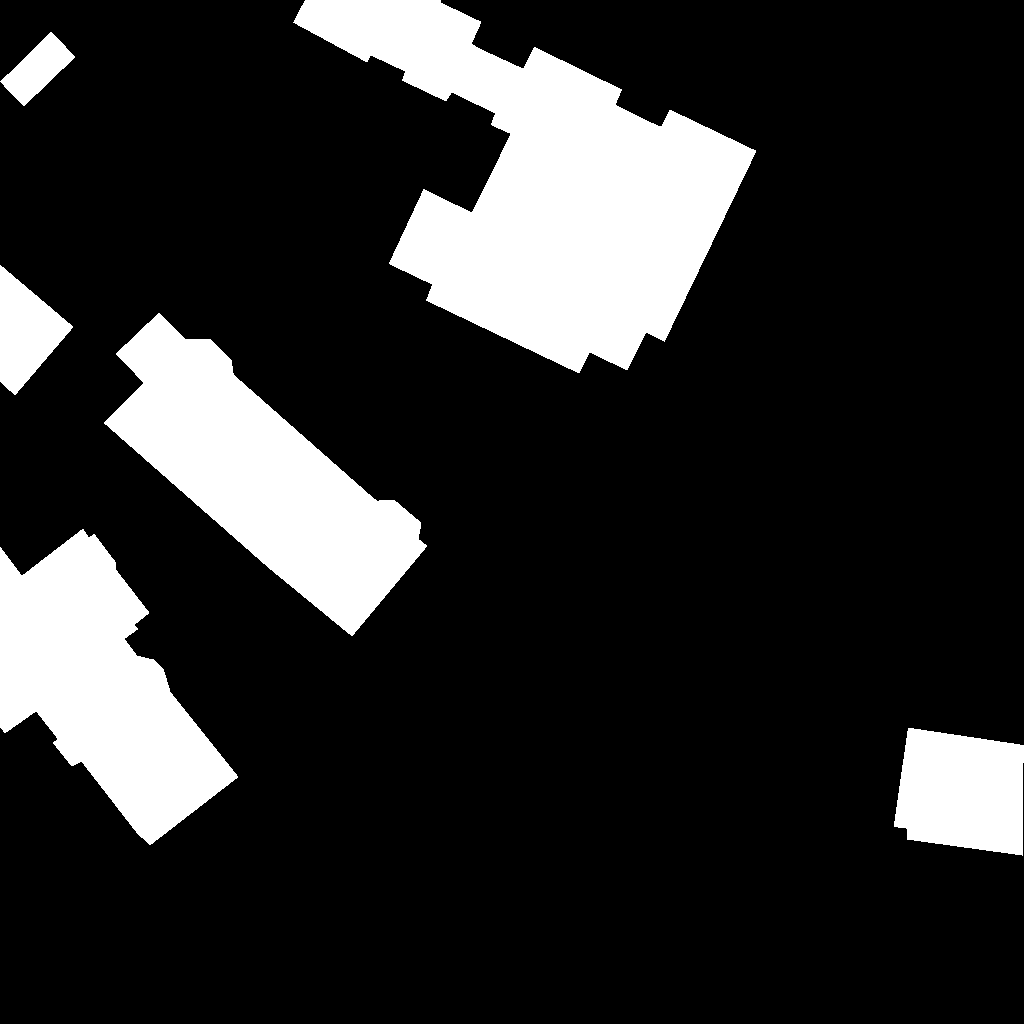building: (293, 0, 757, 374), (104, 313, 428, 637), (0, 529, 239, 846), (894, 728, 1024, 856), (0, 265, 74, 396), (0, 32, 76, 107)
